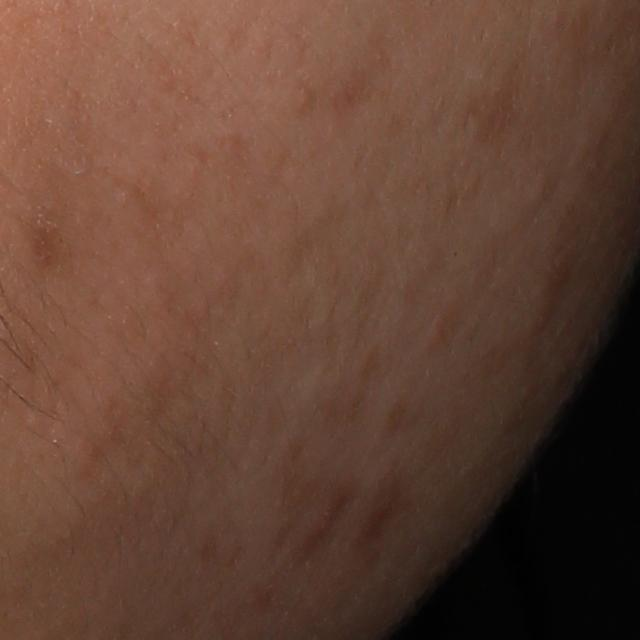comedo: (295, 87, 313, 109)
